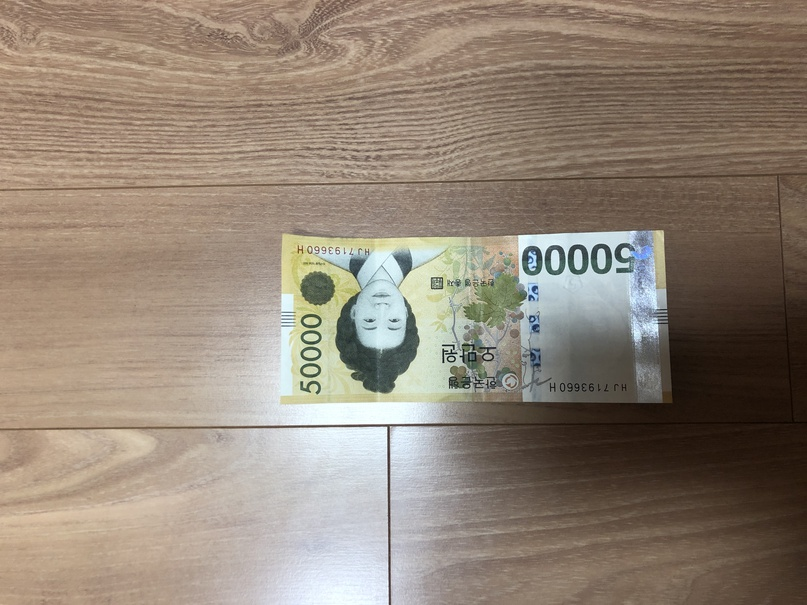50000won: (280, 231, 672, 405)
